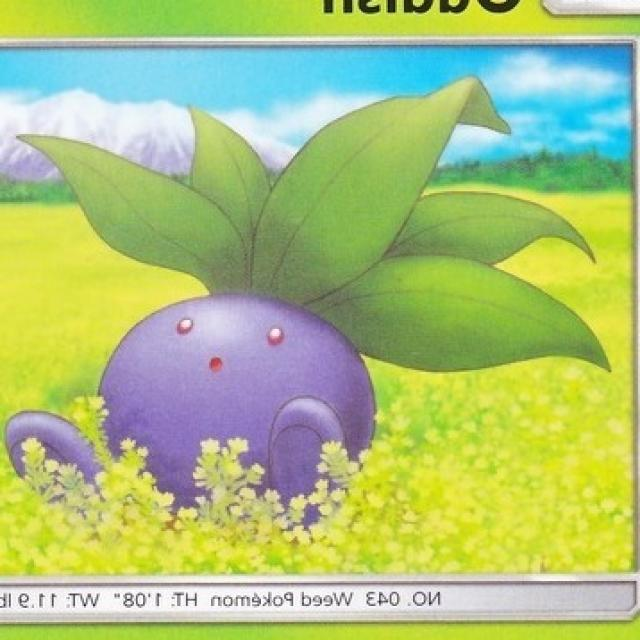Oddish: (94, 97, 391, 520)
